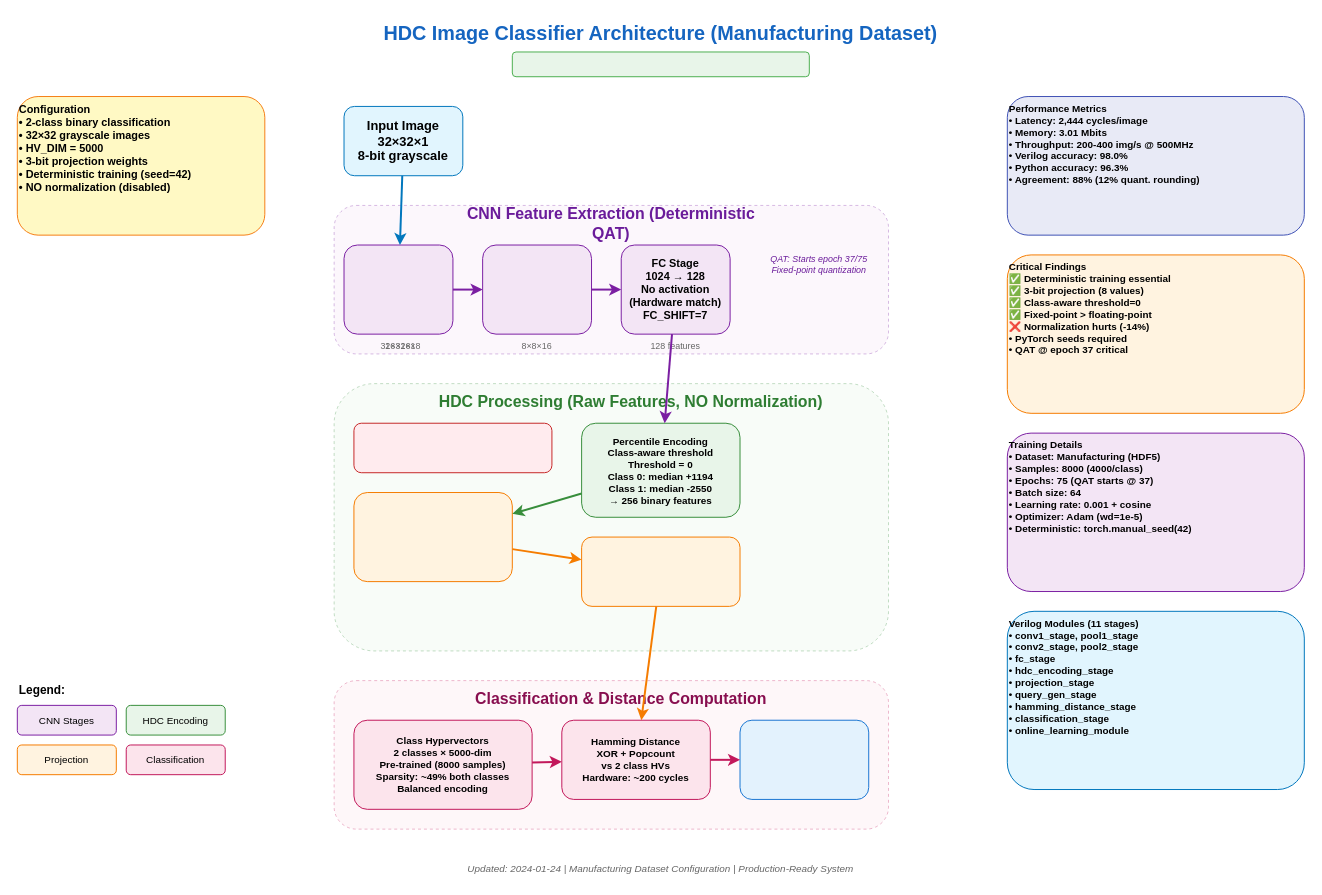
Some shapes in this 1322 by 895 pixel diagram are drawn without their labels. Each missing label, with the centre of its shape:
"Classification Argmin(distances) + Confidence LUT Output: 0 or 1" goes at point (804, 759).
"Conv1 Stage 1→8 channels 3×3 kernel ReLU Pool 2×2" goes at point (398, 289).
"Conv2 Stage 8→16 channels 3×3 kernel ReLU Pool 2×2" goes at point (537, 289).
"Projection Stage Random Matrix 256 × 5000 3-bit weights: {-4,-3,-2,-1,0,1,2,3}" goes at point (432, 537).
"Query Hypervector 5000-dim binary ~50% sparsity (Hamming-friendly)" goes at point (660, 571).
"✅ Verified: Verilog 98% | Python 96.3%" goes at point (660, 64).
"❌ Normalization DISABLED (Hurts accuracy: 96.3% → 81.9%)" goes at point (452, 447).
